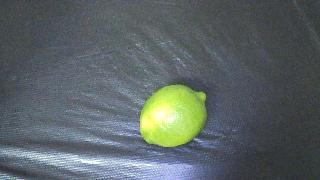LOCAL: (140, 85, 207, 147)
